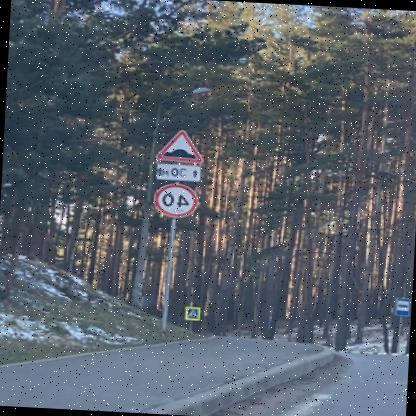crosswalk: (188, 306, 200, 318)
speedlimit: (156, 182, 201, 217)
